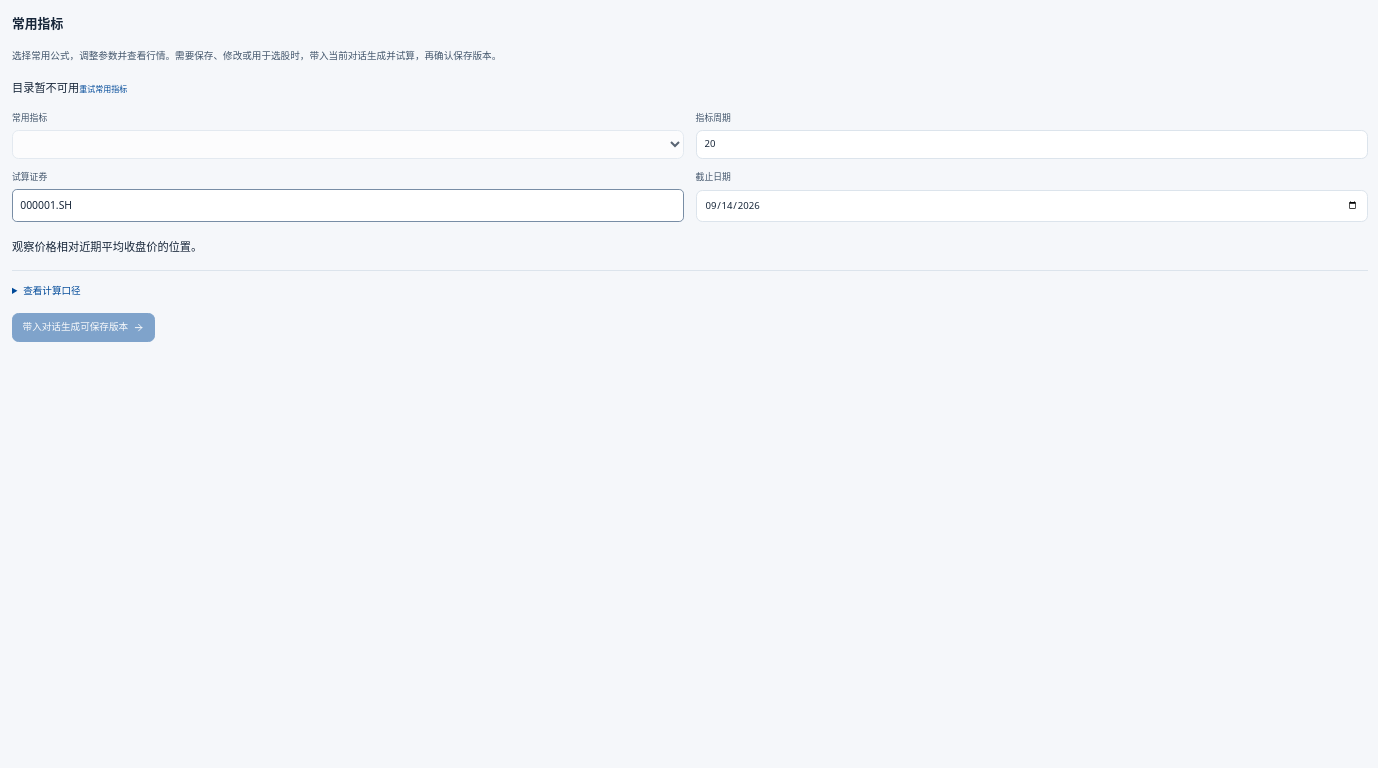
Scenario: recovers catalog failures and exposes preview errors without enabling save handoff
Expected: the message shows "目录暂不可用", [12,80,79,94]
Click the button "重试常用指标" at point(103, 88), box [79,82,127,95]
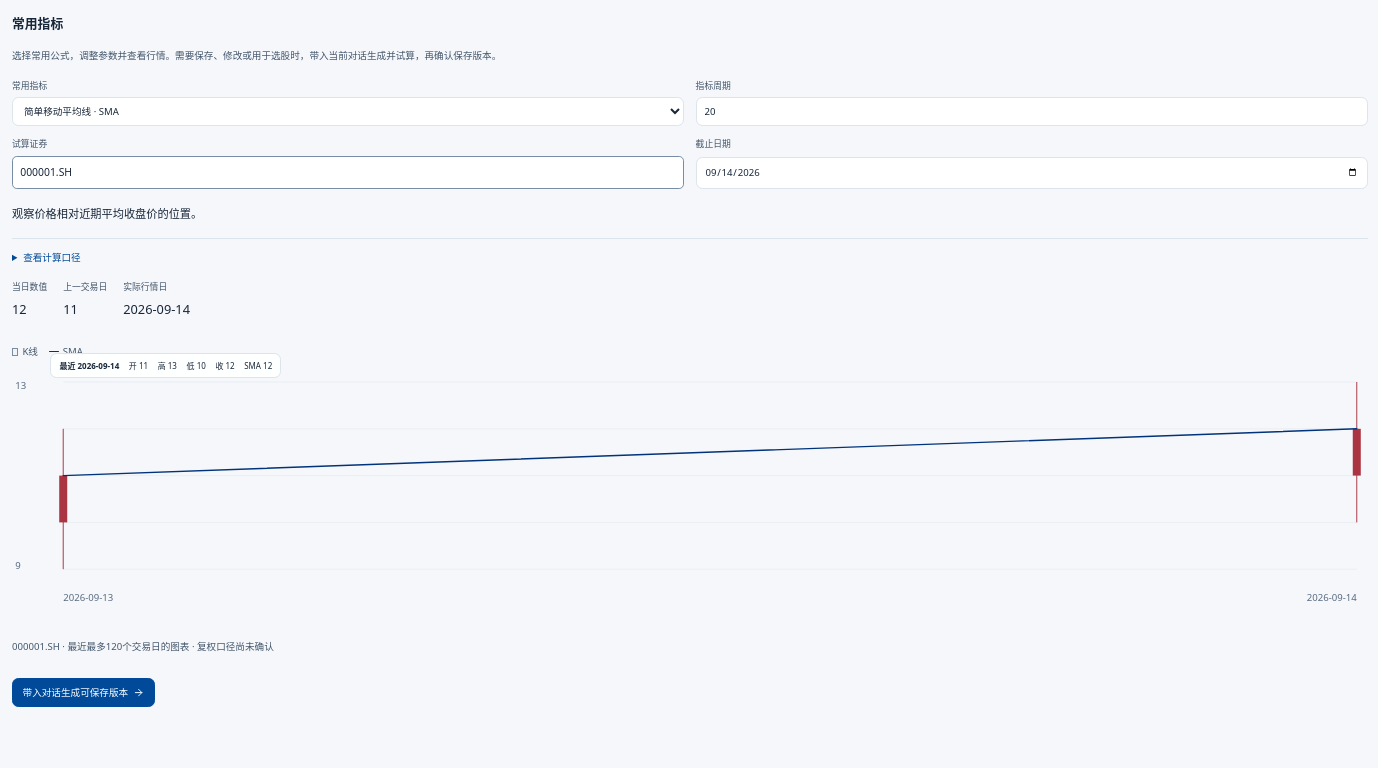
Expected: the picture is shown, [12,366,1368,604]
Select "相对强弱指标 · RSI" in the dropdown labelled "常用指标" at point(348, 112), box [12,97,684,126]
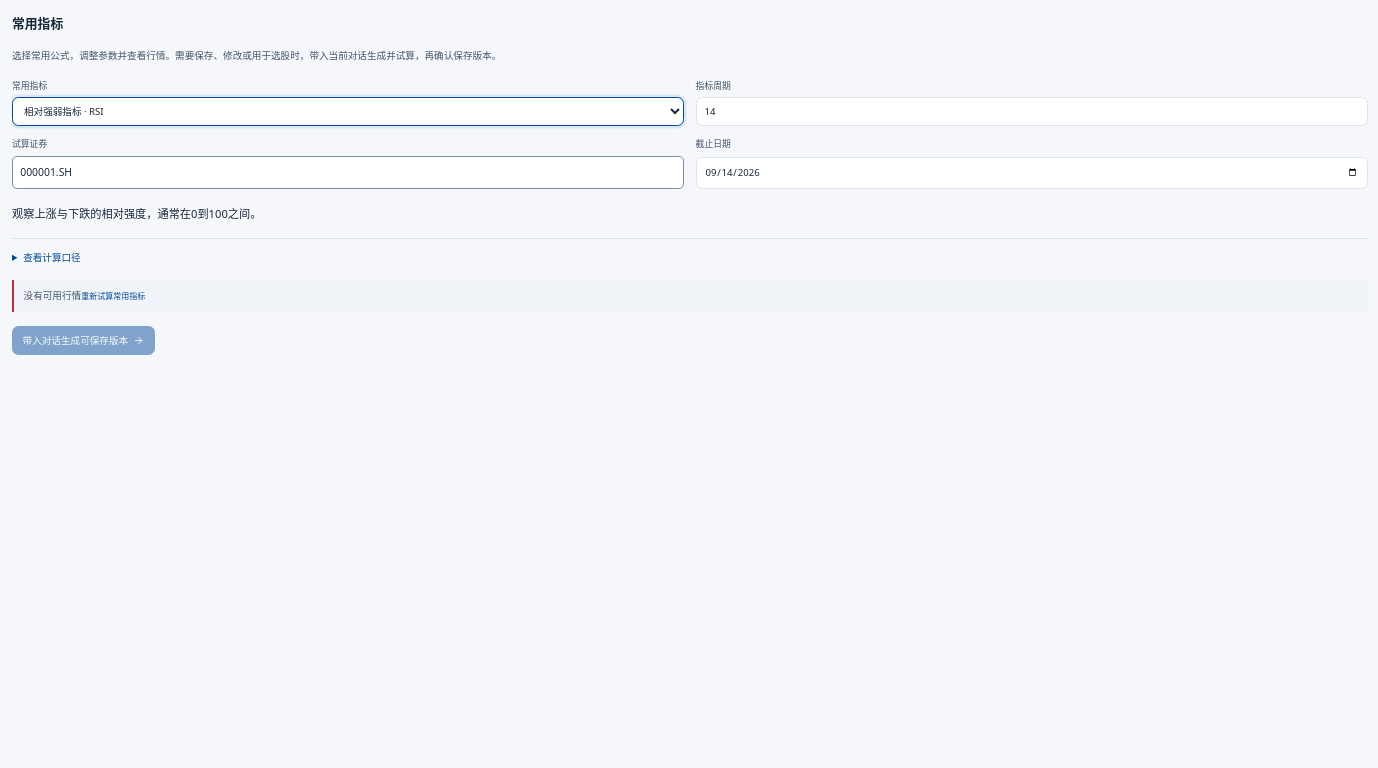
Expected: the message shows "没有可用行情", [24,289,81,302]
Expected: the button "带入对话生成可保存版本" is disabled, [12,326,155,355]
